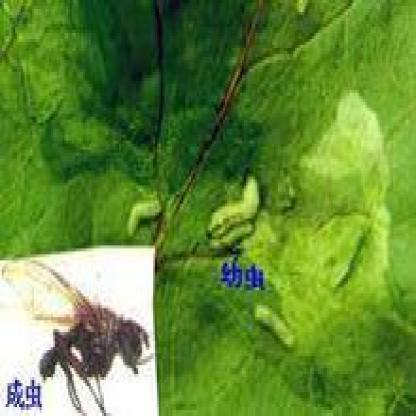whorl-maggot: (201, 167, 268, 252), (242, 295, 300, 357), (126, 195, 164, 242)
